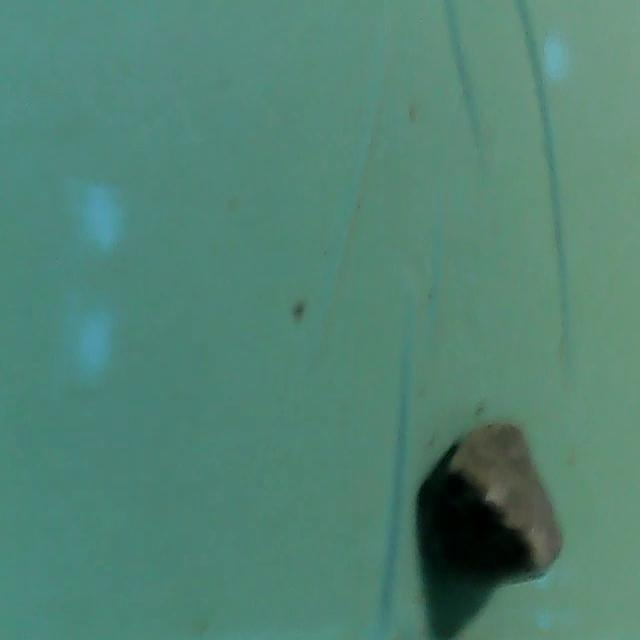rock: (421, 406, 573, 606)
